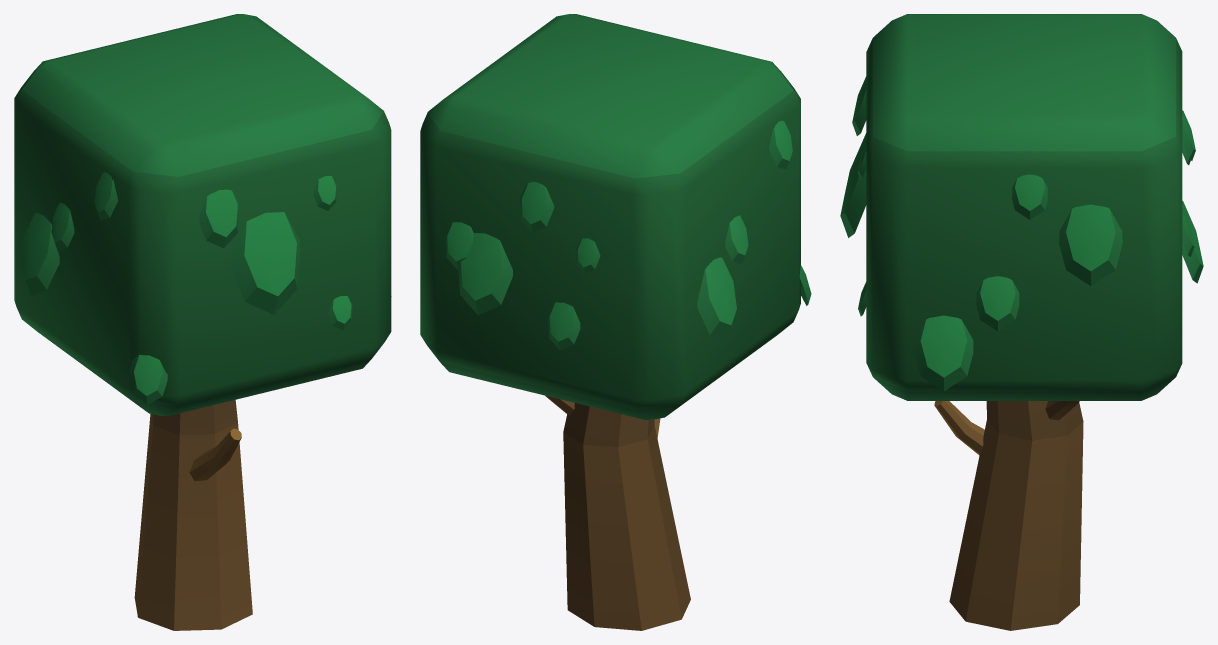
Rendered from tree.fbx.
The picture shows the model from 3 angles, left to right: view 1: azimuth 30°, elevation 25°; view 2: azimuth 150°, elevation 25°; view 3: azimuth 270°, elevation 25°; orthographic projection. The views are drawn at different scales.
Visible parts, largest first — view 1: Cube.001; view 2: Cube.001; view 3: Cube.001.
Part boxes in pixels (x1,y1,x2,y2): Cube.001: [14, 14, 391, 630]; Cube.001: [420, 14, 811, 630]; Cube.001: [840, 14, 1203, 630].
Size of the model in its own units: 148 by 250 by 151.
